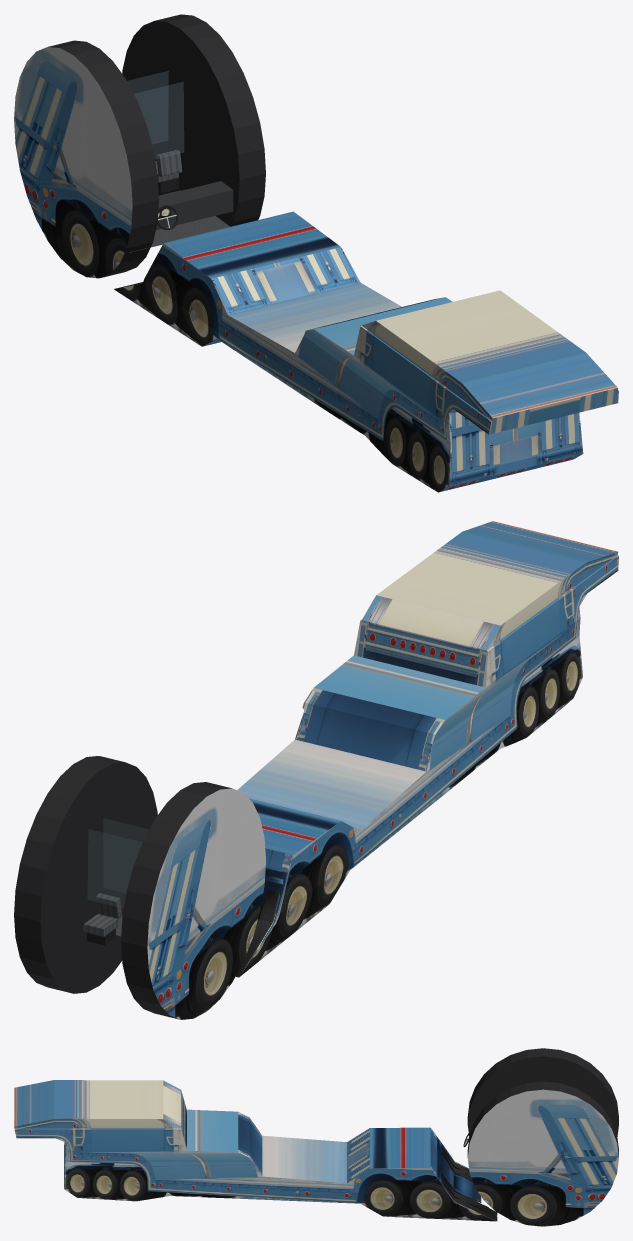
The model's file is low_loader.glb.
3 renders of one model, top to bottom at view 1: azimuth 30°, elevation 25°; view 2: azimuth 150°, elevation 25°; view 3: azimuth 270°, elevation 25°, orthographic. The views are drawn at different scales.
Parts seen in each view (by area): view 1: low_loader, wheel_FL, wheel_FR, low_loader_cabin; view 2: low_loader, wheel_FL, wheel_FR, low_loader_cabin; view 3: low_loader, wheel_FR, wheel_FL.
Boxes of the visible parts, box(x1,y1,x2,y2) form: low_loader: box(114, 211, 618, 492); wheel_FL: box(14, 40, 158, 278); wheel_FR: box(122, 14, 265, 226); low_loader_cabin: box(127, 71, 233, 252); low_loader: box(235, 521, 618, 977); wheel_FL: box(121, 782, 265, 1019); wheel_FR: box(14, 756, 157, 993); low_loader_cabin: box(83, 818, 148, 945); low_loader: box(14, 1080, 497, 1221); wheel_FR: box(467, 1081, 618, 1226); wheel_FL: box(467, 1048, 618, 1136).
Bounding box in the file's own units: 2.56 × 3.89 × 15.58.
10 materials, 4 textured.
